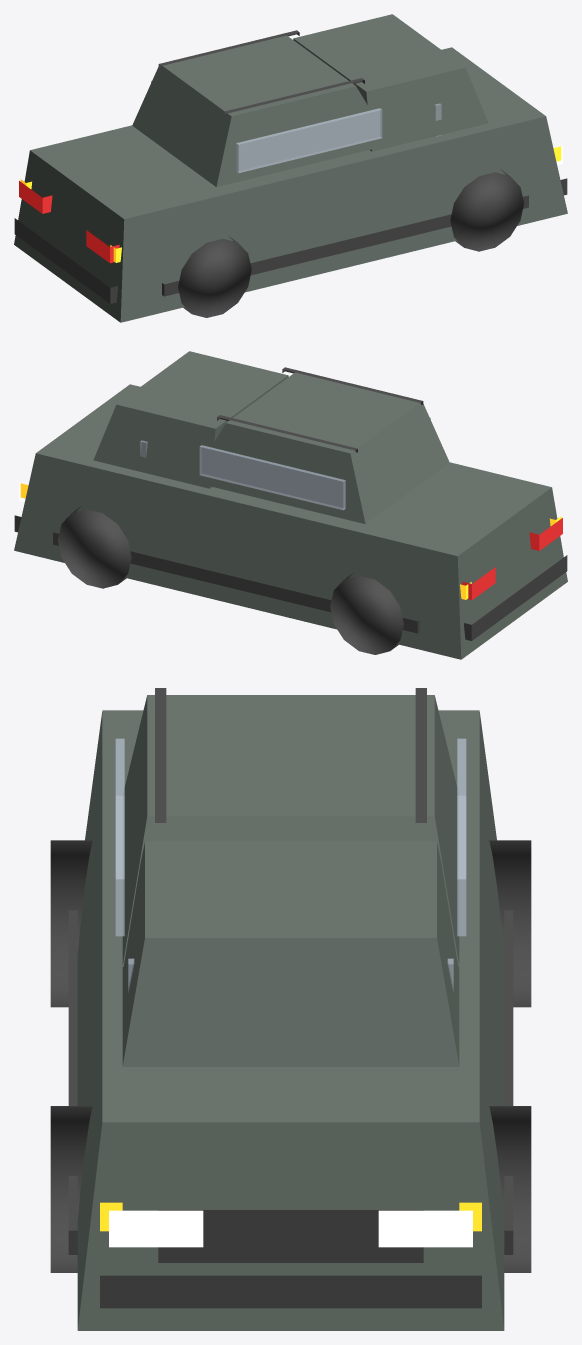
The model's file is suv.gltf.
3 views of the same model, one above another, from view 1: azimuth 30°, elevation 25°; view 2: azimuth 150°, elevation 25°; view 3: azimuth 270°, elevation 25° (orthographic). The views are drawn at different scales.
Visible parts, largest first — view 1: body, cabin, rear, side_window_R, wheel_FR, wheel_RR, cladding_R, bumper_rear, brakelight_L, roof_rail_L, roof_rail_R, brakelight_R; view 2: body, cabin, rear, side_window_L, wheel_FL, wheel_RL, cladding_L, bumper_rear, brakelight_R, roof_rail_R, roof_rail_L, brakelight_L; view 3: body, rear, cabin, bumper_front, grille, wheel_FL, wheel_FR, wheel_RL, wheel_RR, headlight_L, headlight_R, cladding_L (+5 smaller).
Part boxes in pixels (left/top/right/bottom): body: left=14, top=47, right=567, bottom=322; cabin: left=132, top=35, right=391, bottom=187; rear: left=293, top=14, right=488, bottom=151; side_window_R: left=236, top=108, right=382, bottom=173; wheel_FR: left=450, top=169, right=523, bottom=251; wheel_RR: left=178, top=235, right=251, bottom=317; cladding_R: left=162, top=195, right=528, bottom=296; bumper_rear: left=14, top=218, right=117, bottom=303; brakelight_L: left=19, top=181, right=52, bottom=213; roof_rail_L: left=158, top=30, right=299, bottom=67; roof_rail_R: left=224, top=78, right=364, bottom=115; brakelight_R: left=86, top=230, right=119, bottom=263; body: left=14, top=384, right=567, bottom=659; cabin: left=190, top=372, right=449, bottom=524; rear: left=93, top=351, right=288, bottom=488; side_window_L: left=199, top=445, right=345, bottom=510; wheel_FL: left=58, top=506, right=131, bottom=588; wheel_RL: left=330, top=572, right=403, bottom=654; cladding_L: left=53, top=532, right=419, bottom=633; bumper_rear: left=464, top=555, right=567, bottom=640; brakelight_R: left=529, top=518, right=562, bottom=550; roof_rail_R: left=282, top=367, right=423, bottom=404; roof_rail_L: left=217, top=415, right=357, bottom=452; brakelight_L: left=462, top=567, right=495, bottom=600; body: left=77, top=710, right=504, bottom=1330; rear: left=122, top=841, right=459, bottom=1066; cabin: left=122, top=695, right=459, bottom=966; bumper_front: left=100, top=1275, right=481, bottom=1308; grille: left=158, top=1210, right=423, bottom=1262; wheel_FL: left=488, top=1106, right=531, bottom=1272; wheel_FR: left=50, top=1106, right=93, bottom=1272; wheel_RL: left=488, top=840, right=531, bottom=1007; wheel_RR: left=50, top=840, right=93, bottom=1007; headlight_L: left=378, top=1210, right=472, bottom=1247; headlight_R: left=109, top=1210, right=203, bottom=1247; cladding_L: left=504, top=910, right=513, bottom=1254.
Size of the model in its own units: 4.7 by 1.71 by 2.14.
